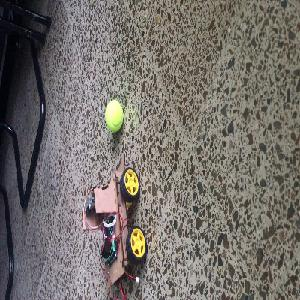Ball: (103, 100, 124, 131)
Robot: (82, 152, 148, 287)
